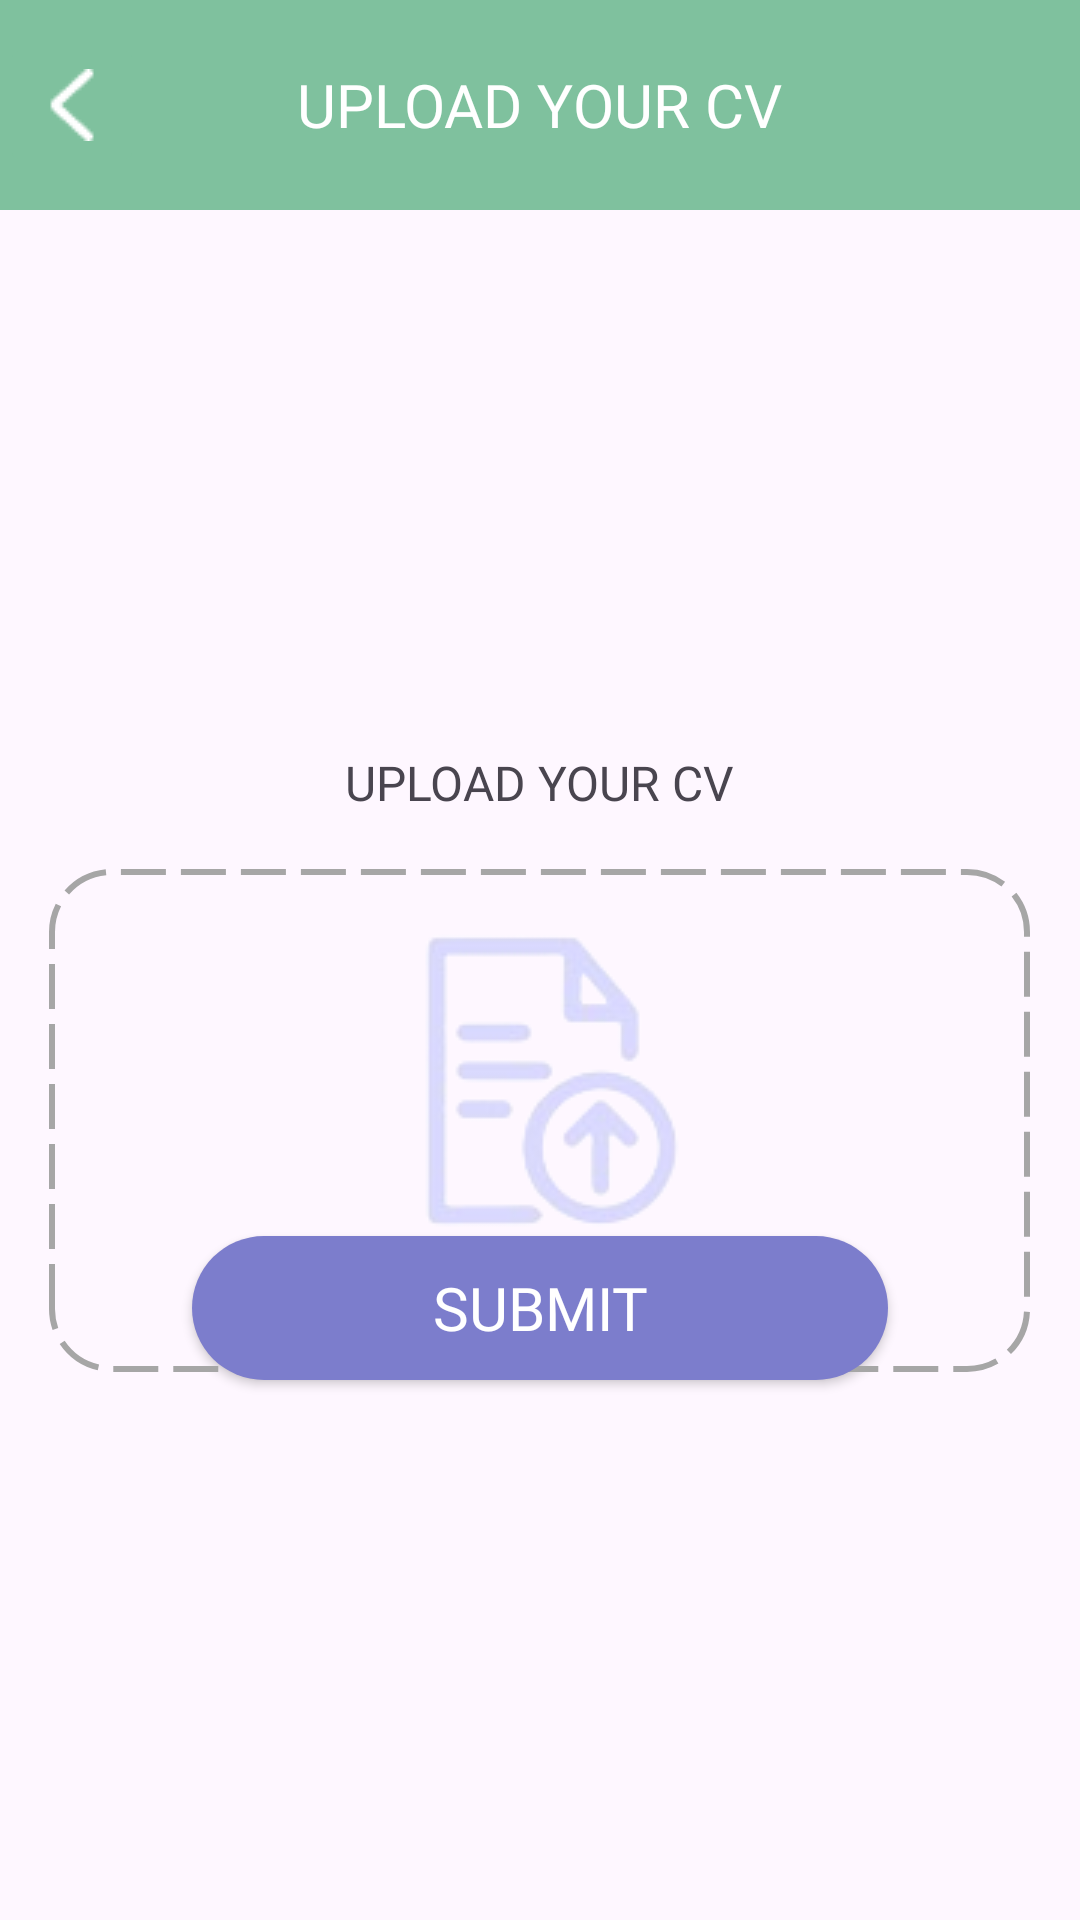

Locate icon controls on the screen. Image size 1080×1920, boxes as Rect(x1, y1, x2, y2).
chevron left: Rect(50, 69, 94, 141)
